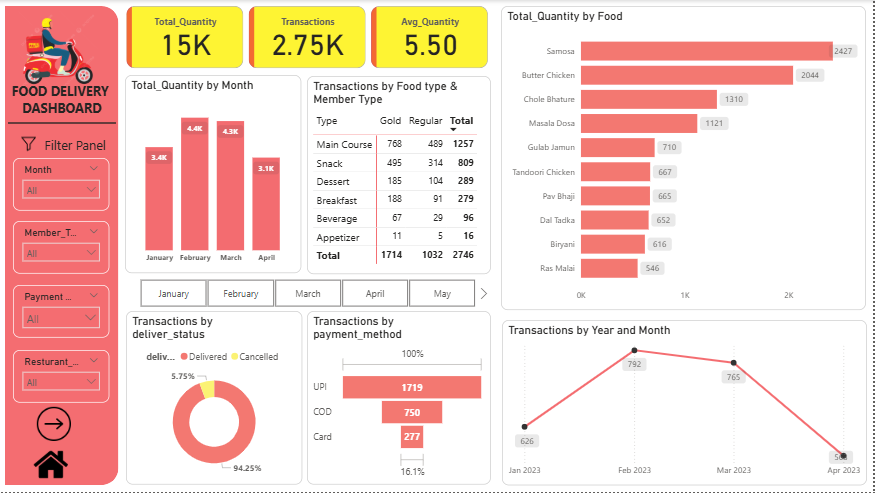

What the dashboard file says about the page in this screenshot:
{"tool":"powerbi","page":{"name":"Page 1","canvas":[1280,720],"ordinal":0},"visuals":[{"type":"shape","box":[8.1,8.1,166.3,701.2],"z":0},{"type":"image","box":[7.9,9,158.3,132.3],"z":1000},{"type":"textbox","box":[12.8,116.3,158.1,70.9],"z":2000},{"type":"shape","box":[13.2,165.4,158,29.3],"z":3000},{"type":"cardVisual","fields":{"Data":["Sales Data.Total_Quantity","Sales Data.Transactions","Sales Data.Avg_Quantity"]},"box":[181.4,9.3,539.5,103.5],"z":4000},{"type":"clusteredColumnChart","fields":{"Y":["Sales Data.Total_Quantity"],"Category":["Sales Data.orderDate.Variation.Date Hierarchy.Month"]},"box":[184.9,110.5,258.1,289.5],"z":5000},{"type":"pivotTable","title":"Transactions by Food type & Member Type","fields":{"Rows":["Food_Details.Type"],"Columns":["Customer Details.member_Type"],"Values":["Sales Data.Transactions"]},"box":[451.5,111.1,269,289.5],"z":6000},{"type":"donutChart","fields":{"Category":["Sales Data.deliver_status"],"Y":["Sales Data.Transactions"]},"box":[185.2,455.6,258,253.9],"z":7000},{"type":"funnel","fields":{"Category":["Sales Data.payment_method"],"Y":["Sales Data.Transactions"]},"box":[451.5,455.6,269,253.9],"z":8000},{"type":"clusteredBarChart","fields":{"Y":["Sales Data.Total_Quantity"],"Category":["Food_Details.Food"]},"box":[734.9,9.3,533.7,445.4],"z":9000},{"type":"lineChart","fields":{"Y":["Sales Data.Transactions"],"Category":["Sales Data.orderDate.Variation.Date Hierarchy.Year","Sales Data.orderDate.Variation.Date Hierarchy.Month"]},"box":[735.5,467.9,533.8,241.5],"z":10000},{"type":"slicer","fields":{"Values":["Sales Data.orderDate.Variation.Date Hierarchy.Month"]},"box":[20.6,231.9,141.3,76.8],"z":11000},{"type":"slicer","fields":{"Values":["Customer Details.member_Type"]},"box":[20.6,323.8,141.3,76.8],"z":12000},{"type":"slicer","fields":{"Values":["Sales Data.payment_method"]},"box":[20.6,417.2,141.3,76.8],"z":13000},{"type":"slicer","fields":{"Values":["Resturant_Details.Resturant_type"]},"box":[20.6,511.8,141.3,76.8],"z":14000},{"type":"slicer","fields":{"Values":["Sales Data.orderDate.Variation.Date Hierarchy.Month"]},"box":[180.9,402.5,539.3,53.1],"z":15000},{"type":"image","box":[24.7,194.9,37,31.6],"z":16000},{"type":"textbox","box":[61.7,194.9,123.5,37],"z":17000},{"type":"image","box":[43.9,649.1,64.5,60.4],"z":18000},{"type":"image","box":[46.7,587.3,67.2,67.2],"z":19000}]}

Visuals, with their boxes in screenshot pixels (x1, y1, x2, y2), scaled from the page's 1280x720 canvas onto the 875x493 screenshot:
shape: detection(6, 6, 119, 486)
image: detection(5, 6, 114, 97)
textbox: detection(9, 80, 117, 128)
shape: detection(9, 113, 117, 133)
cardVisual - Sales Data.Total_Quantity x Sales Data.Transactions: detection(124, 6, 493, 77)
clusteredColumnChart - Sales Data.Total_Quantity x Sales Data.orderDate.Variation.Date Hierarchy.Month: detection(126, 76, 303, 274)
"Transactions by Food type & Member Type" pivotTable: detection(309, 76, 493, 274)
donutChart - Sales Data.deliver_status x Sales Data.Transactions: detection(127, 312, 303, 486)
funnel - Sales Data.payment_method x Sales Data.Transactions: detection(309, 312, 493, 486)
clusteredBarChart - Sales Data.Total_Quantity x Food_Details.Food: detection(502, 6, 867, 311)
lineChart - Sales Data.Transactions x Sales Data.orderDate.Variation.Date Hierarchy.Year: detection(503, 320, 868, 486)
slicer - Sales Data.orderDate.Variation.Date Hierarchy.Month: detection(14, 159, 111, 211)
slicer - Customer Details.member_Type: detection(14, 222, 111, 274)
slicer - Sales Data.payment_method: detection(14, 286, 111, 338)
slicer - Resturant_Details.Resturant_type: detection(14, 350, 111, 403)
slicer - Sales Data.orderDate.Variation.Date Hierarchy.Month: detection(124, 276, 492, 312)
image: detection(17, 133, 42, 155)
textbox: detection(42, 133, 127, 159)
image: detection(30, 444, 74, 486)
image: detection(32, 402, 78, 448)
